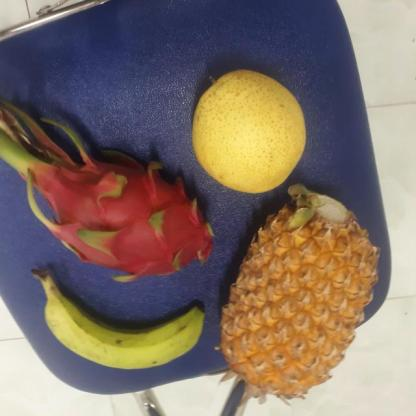banana: (39, 277, 210, 368)
pear: (191, 70, 311, 191)
pineapple: (229, 192, 385, 398)
pitaya: (28, 157, 227, 282)
